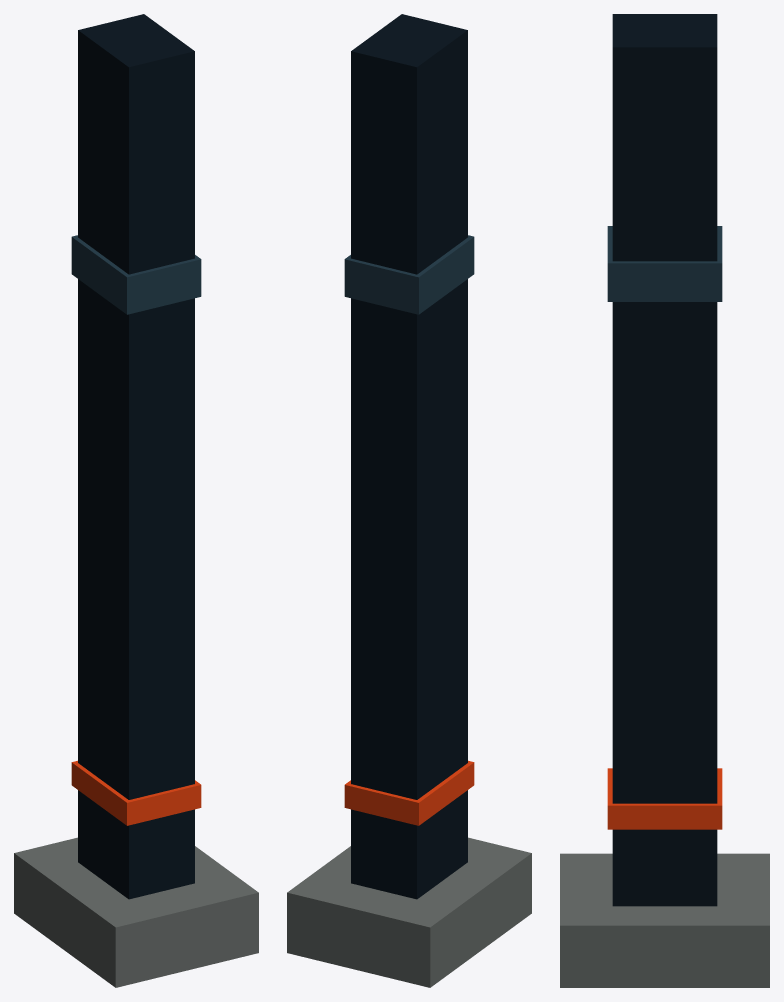
The model's file is FinishSupport.obj.
3 views of the same model, side by side, from view 1: azimuth 30°, elevation 25°; view 2: azimuth 150°, elevation 25°; view 3: azimuth 270°, elevation 25° (orthographic). The views are drawn at different scales.
Bounding box in the file's own units: 1.04 × 6.2 × 1.28.
